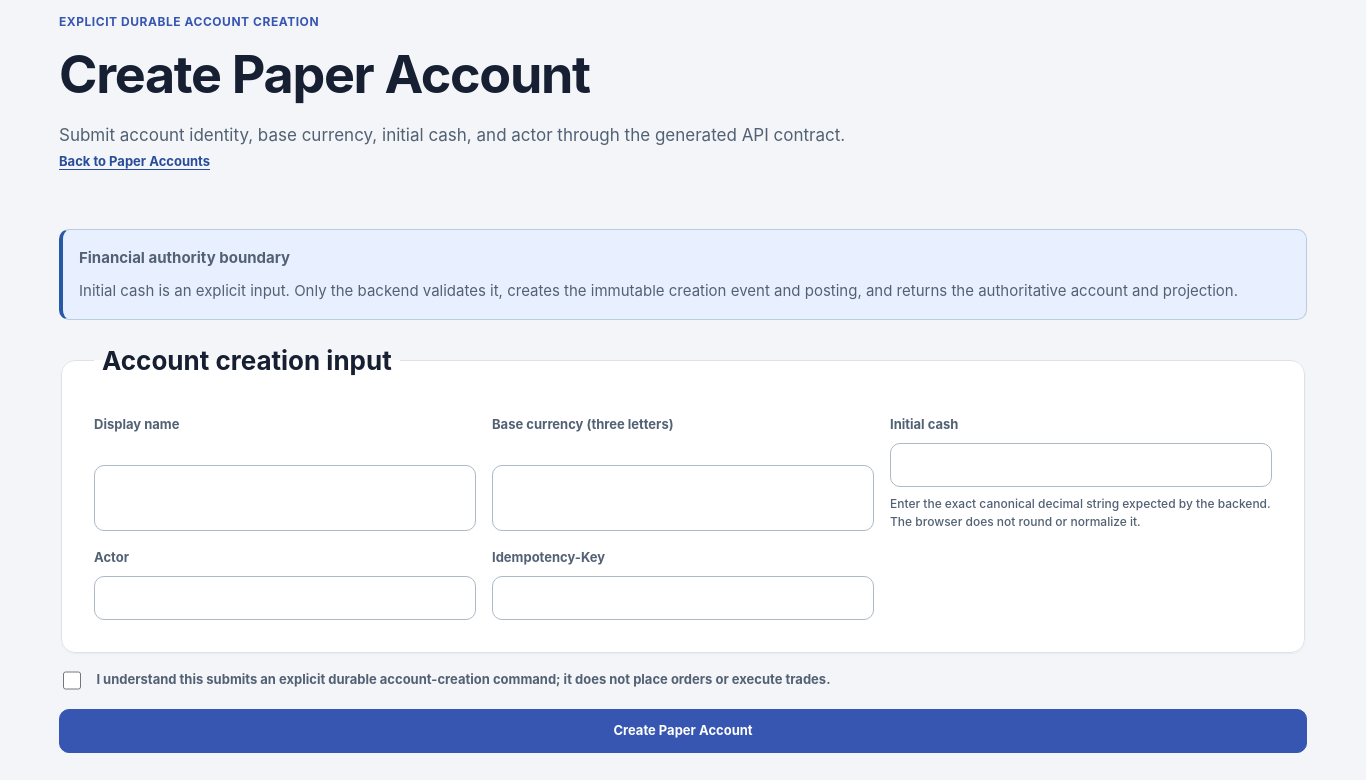
it: Founder Paper Account list and create workspace › preserves invalid drafts and sends no request
The image size is (1366, 780).
In the field labelled "Display name": (285, 498) [94, 465, 476, 531], type "Preserved draft"
In the field labelled "Base currency (three letters)": (683, 498) [492, 465, 874, 531], type "USD"
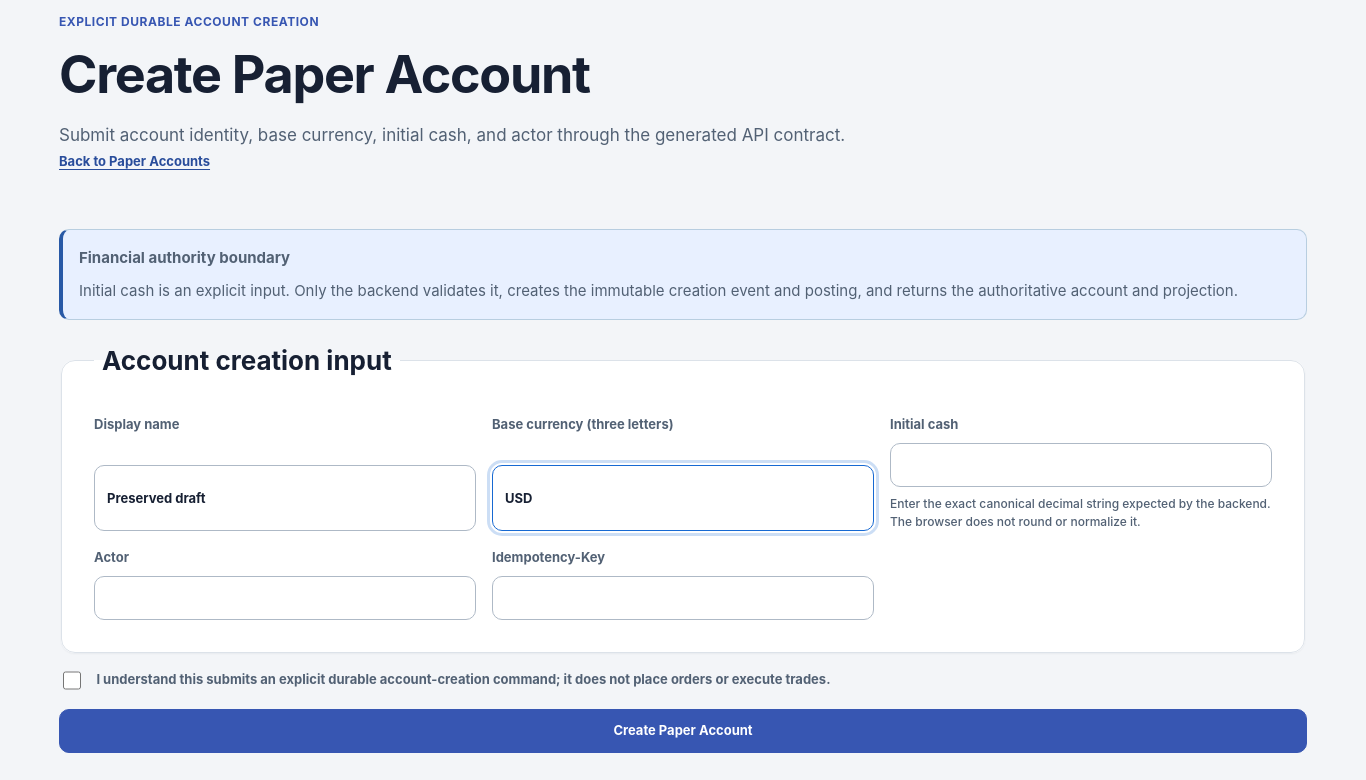
In the field labelled "Initial cash": (1081, 465) [890, 443, 1272, 487], type "1e3"
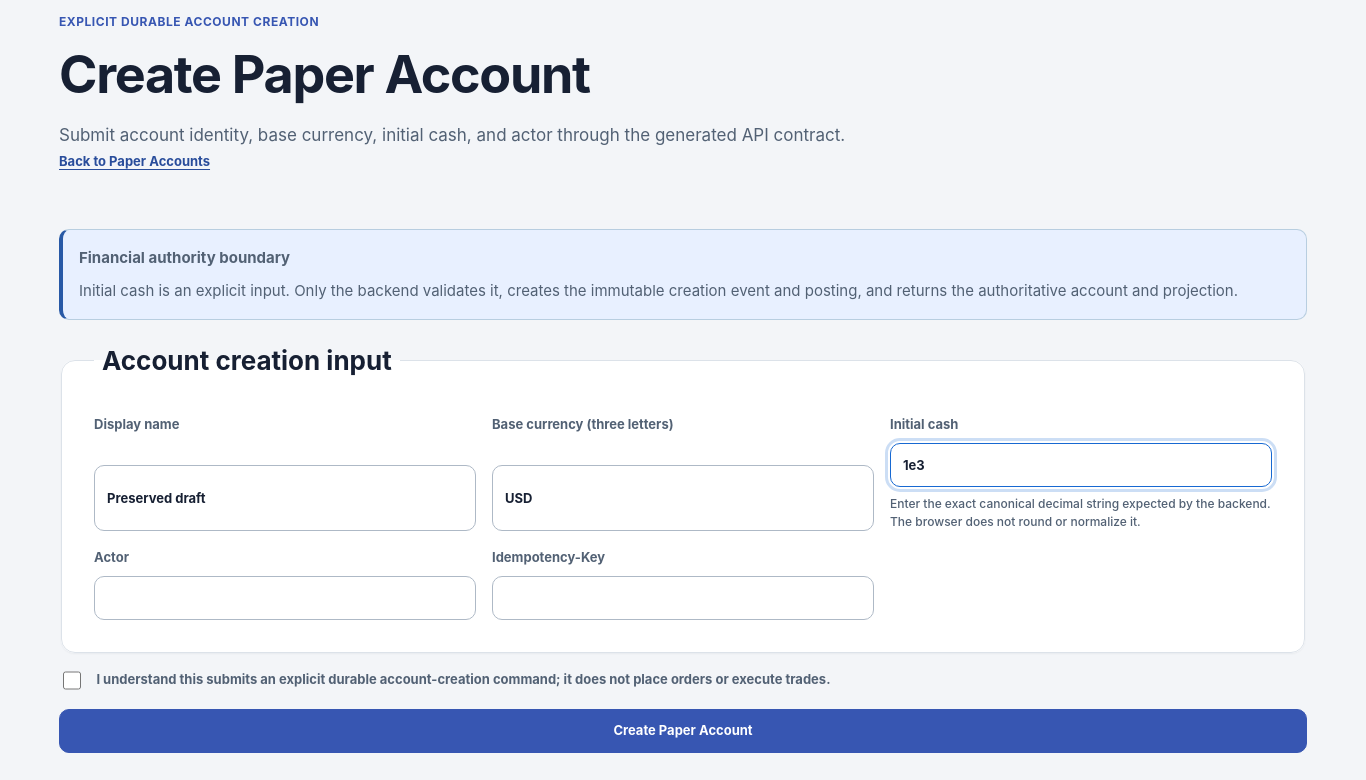
In the field labelled "Actor": (285, 598) [94, 576, 476, 620], type "founder"
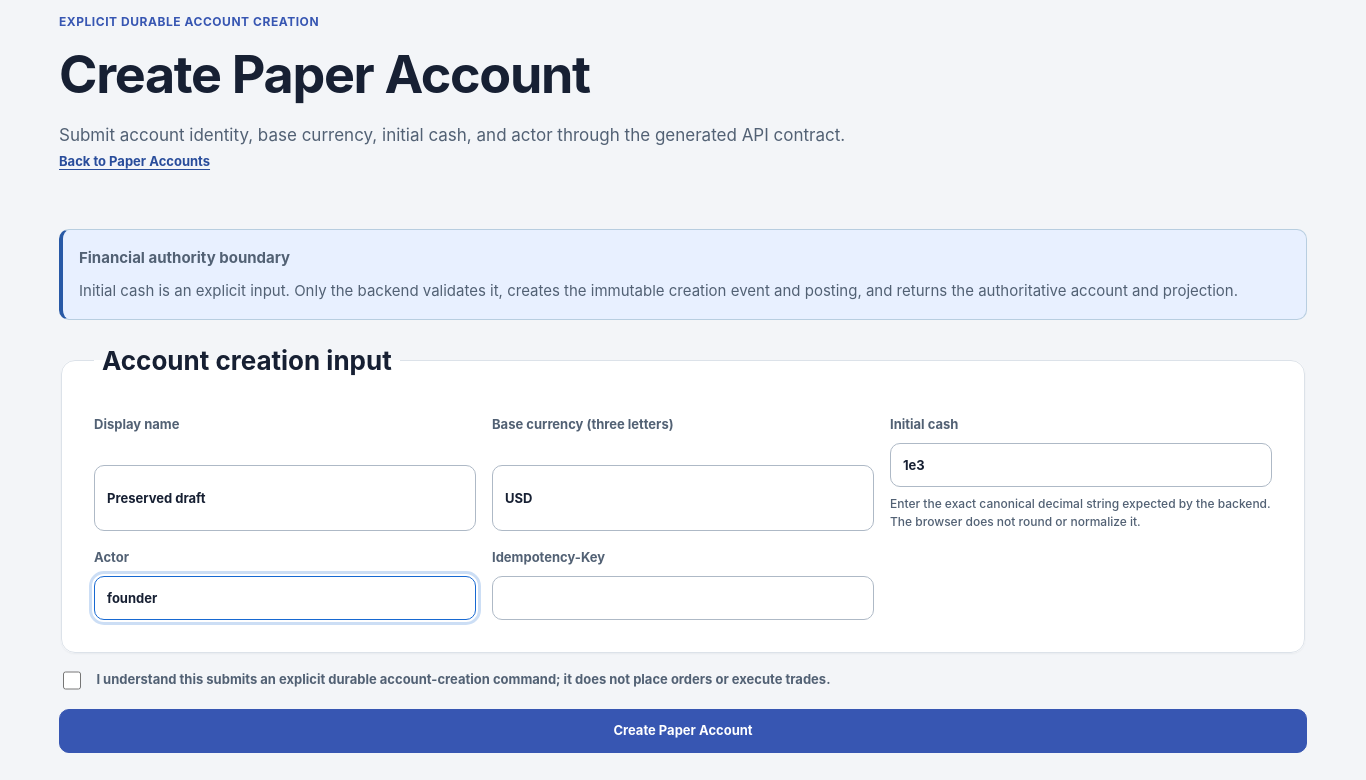
In the field labelled "Idempotency-Key": (683, 598) [492, 576, 874, 620], type "Invalid:186"
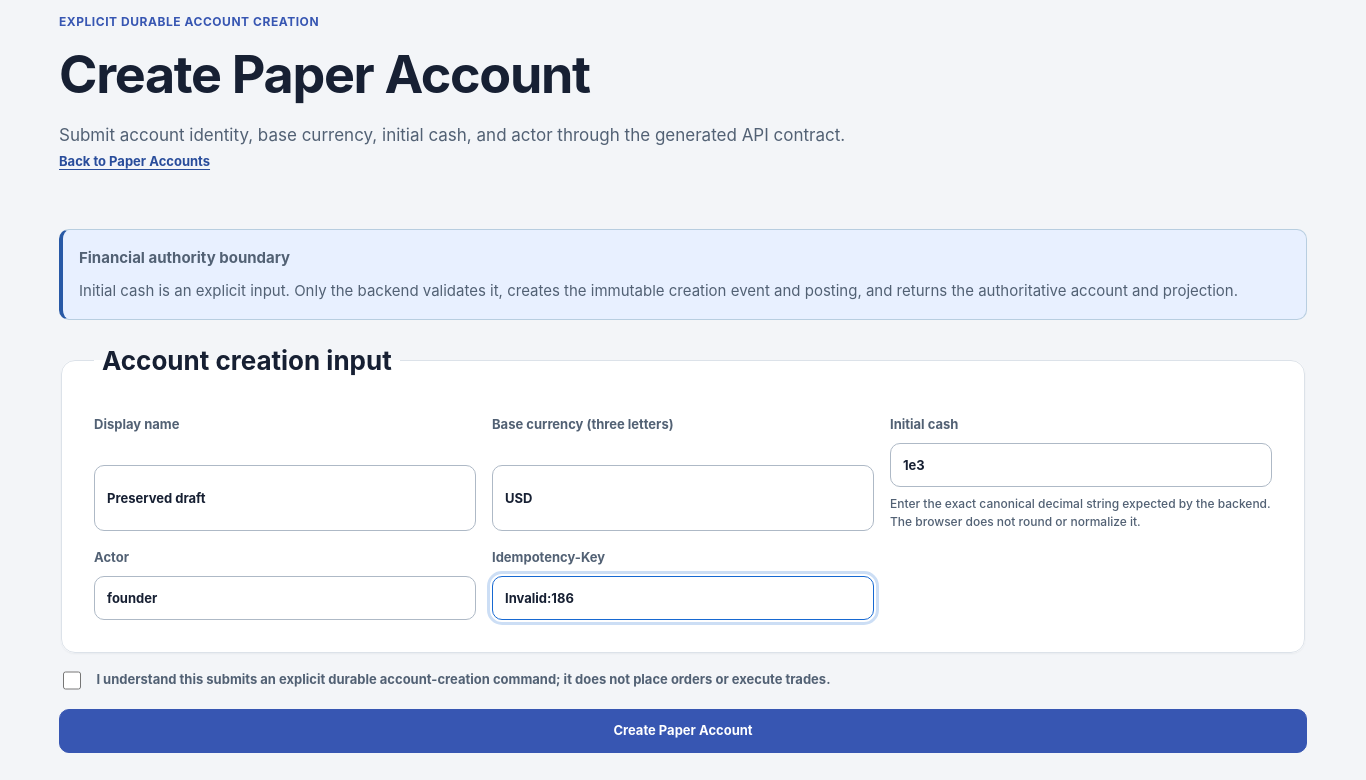
Click the checkbox: (72, 680) [63, 671, 81, 690]
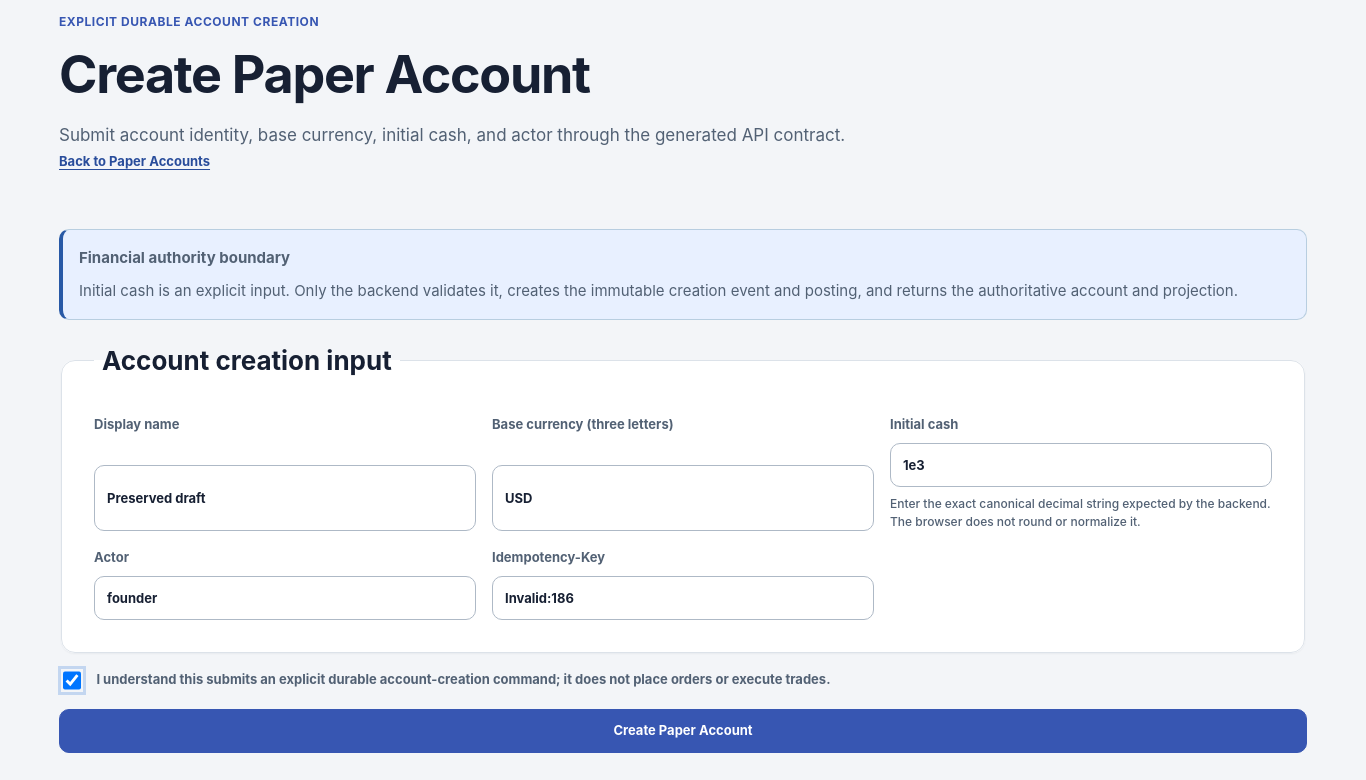
Click the button "Create Paper Account": (683, 731) [59, 709, 1307, 753]
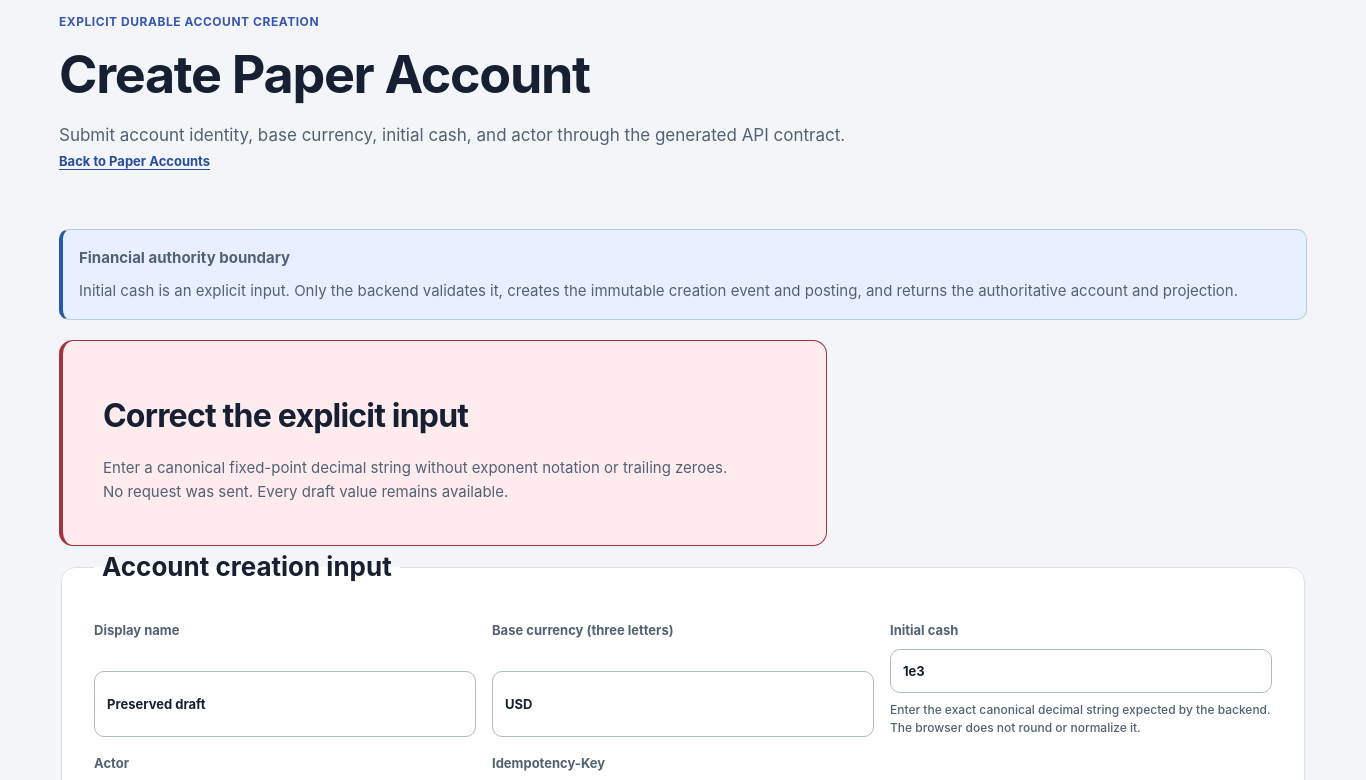
Result: the message shows "No request was sent" at [103, 482, 508, 502]
